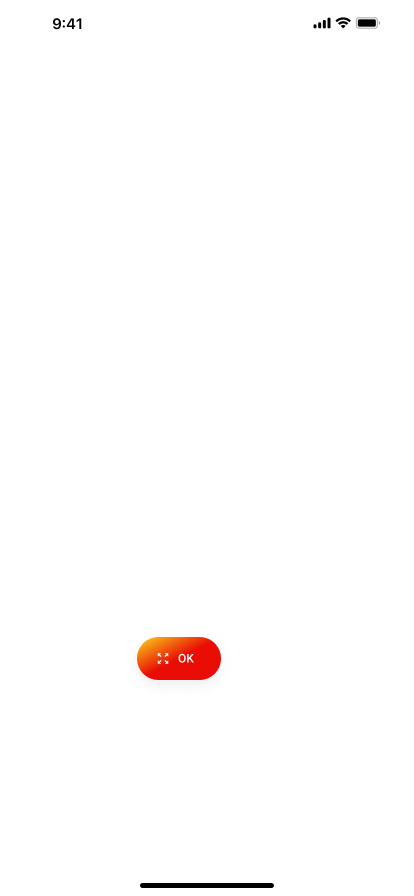Buttons: (122, 628, 236, 701)
Home Indicator: (0, 862, 414, 896)
Status Bar: (0, 0, 414, 44)
